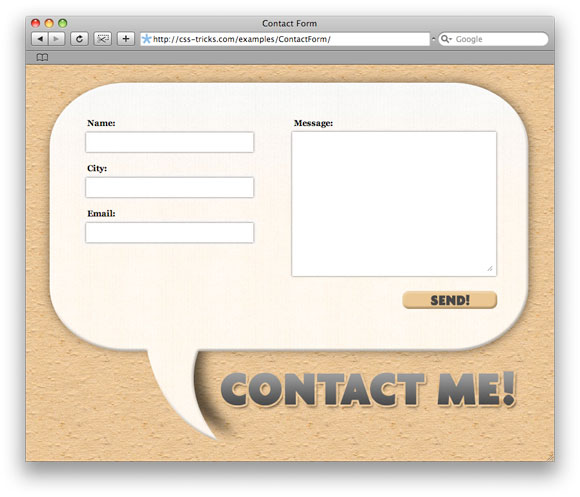_form_: (53, 41, 369, 337), (216, 81, 532, 377)
button: (402, 290, 499, 310)
field: (289, 129, 498, 278), (83, 130, 256, 155), (84, 220, 256, 244), (84, 176, 256, 199)
field_with_label: (286, 119, 501, 281), (81, 118, 258, 156), (82, 163, 259, 201), (81, 209, 258, 246)
